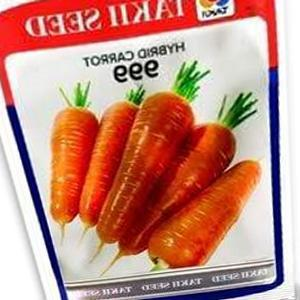carrot: (63, 104, 225, 266), (99, 95, 192, 248)
